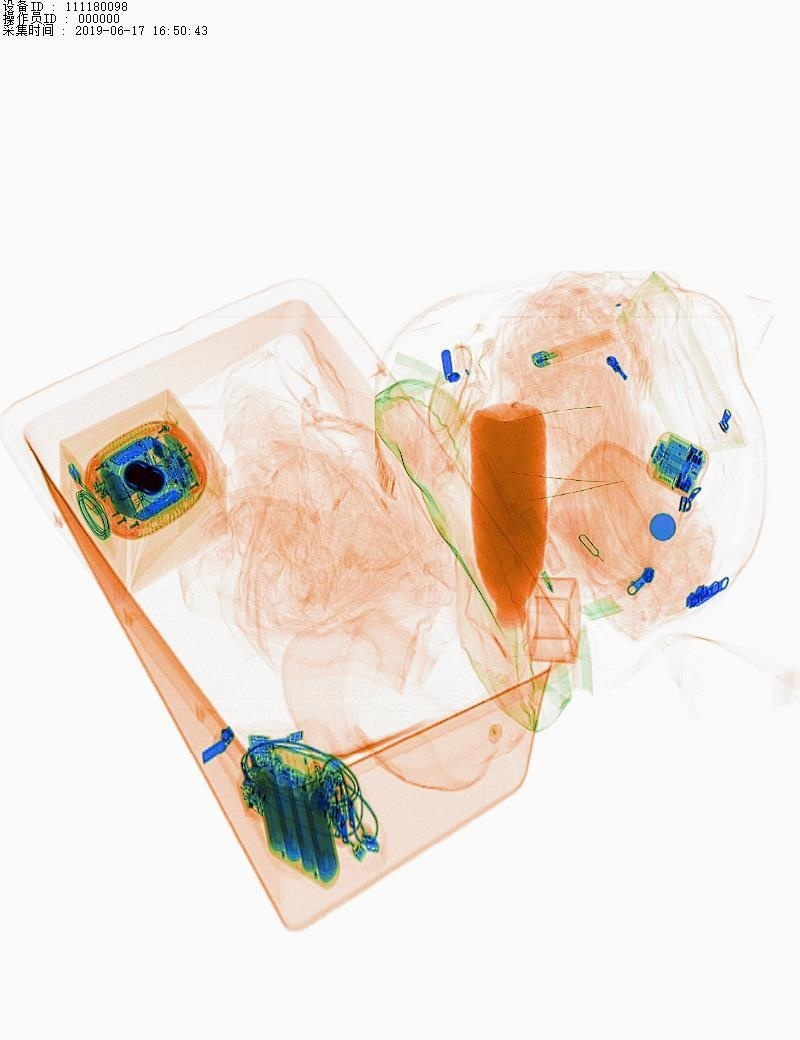NonmetallicFire: (522, 324, 630, 384)
